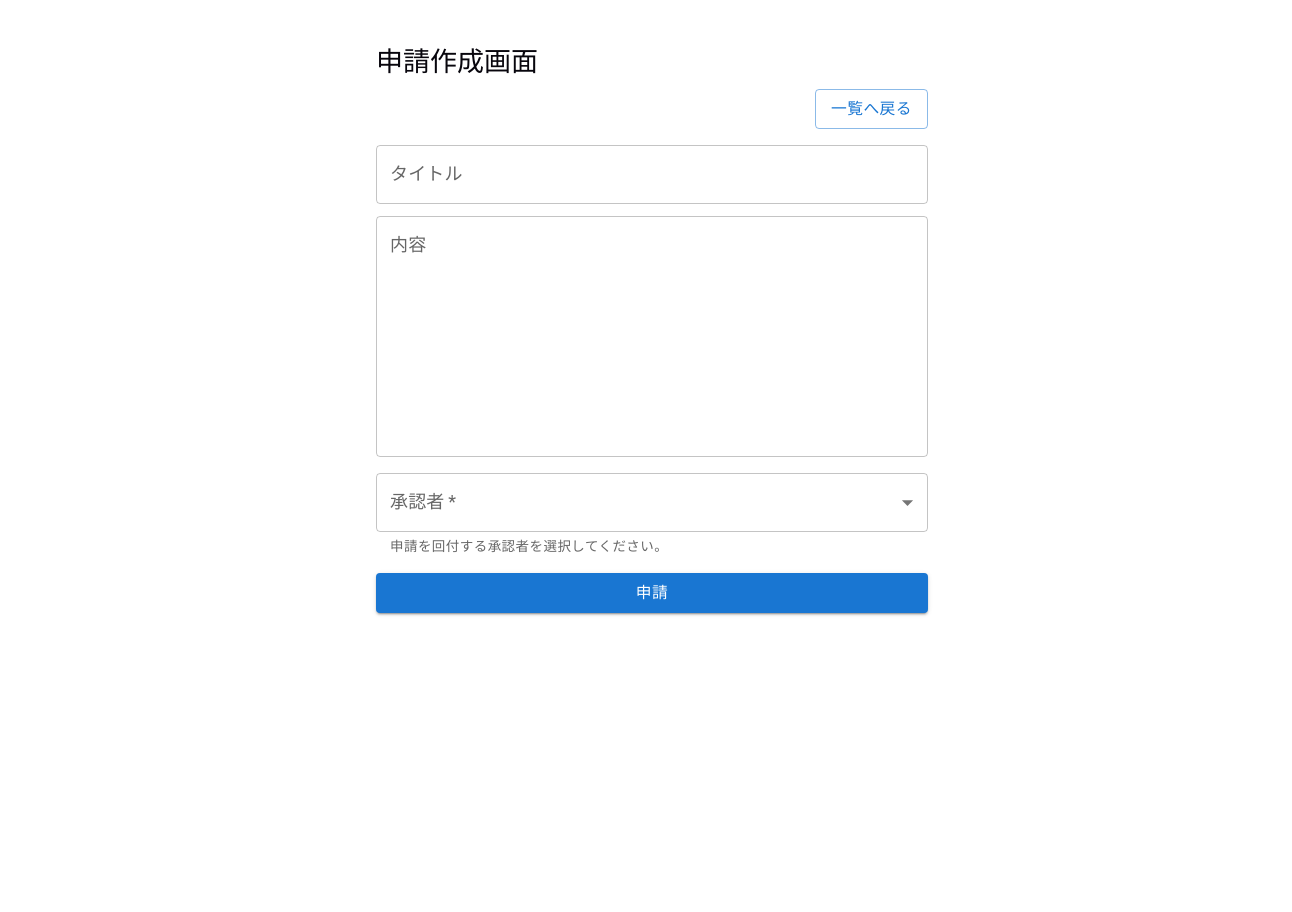
Test: ApplicationCreatePage › 申請の作成に成功すること
The width and height of the screenshot is (1292, 912).
Type "　新規申請タイトル　" into the field labelled "タイトル" at [652, 174], box left=376, top=145, right=928, bottom=204
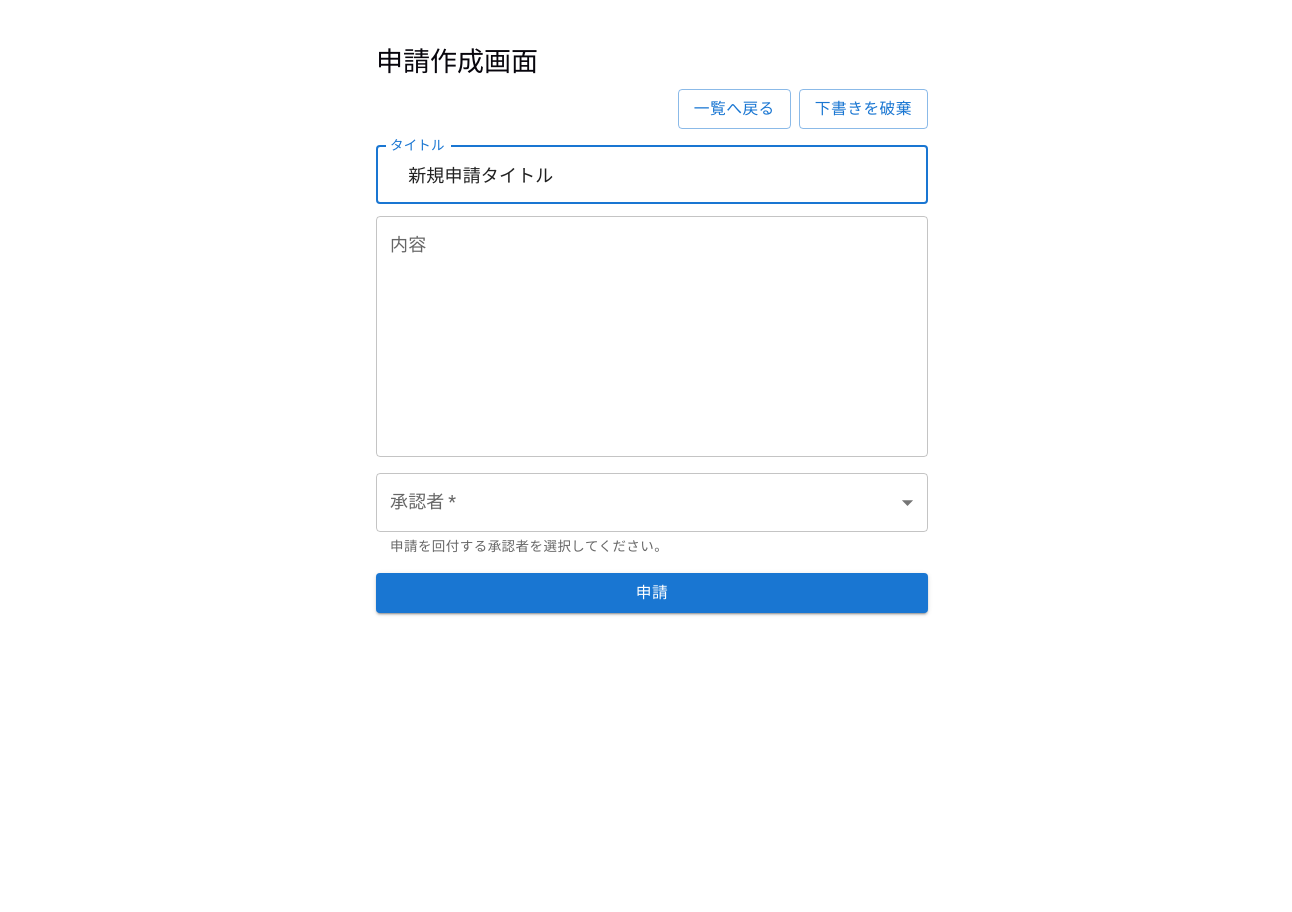
Type "　新規申請内容　" into the text box labelled "内容" at [652, 336], box left=390, top=232, right=914, bottom=440
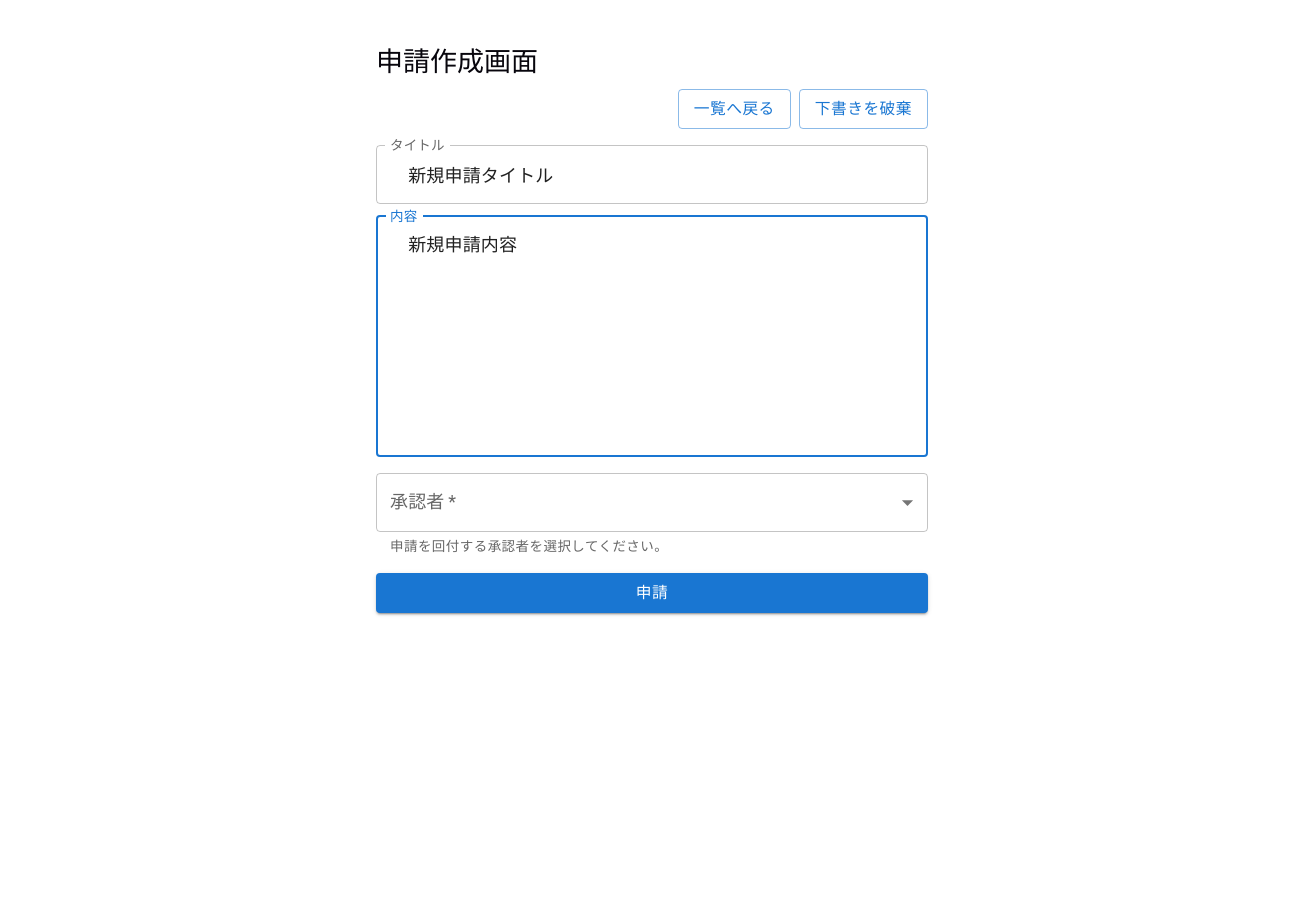
Click the dropdown named "承認者 *" at [652, 502], box left=376, top=473, right=928, bottom=532
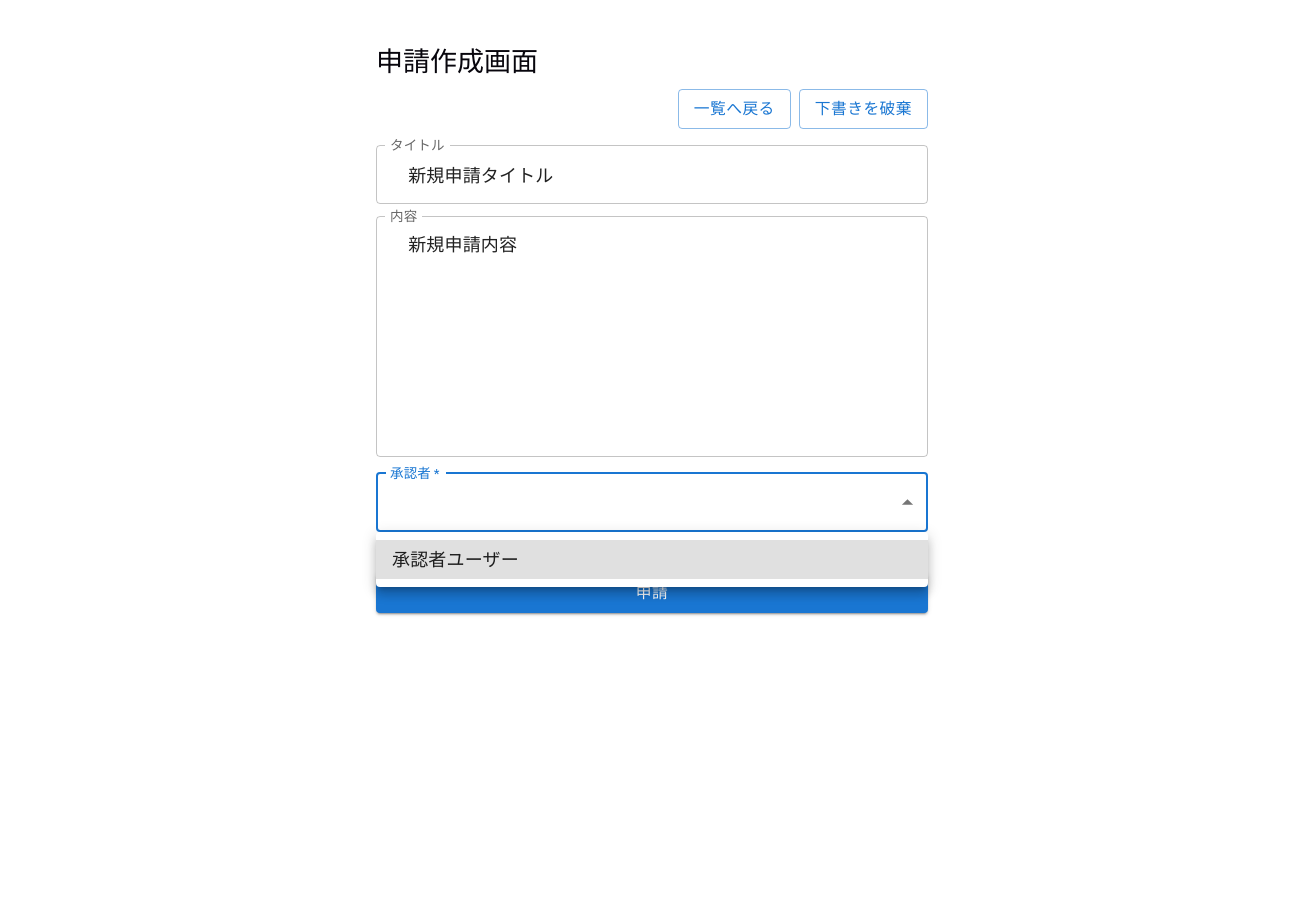
Click the option "承認者ユーザー" at [455, 560], box left=376, top=540, right=928, bottom=579
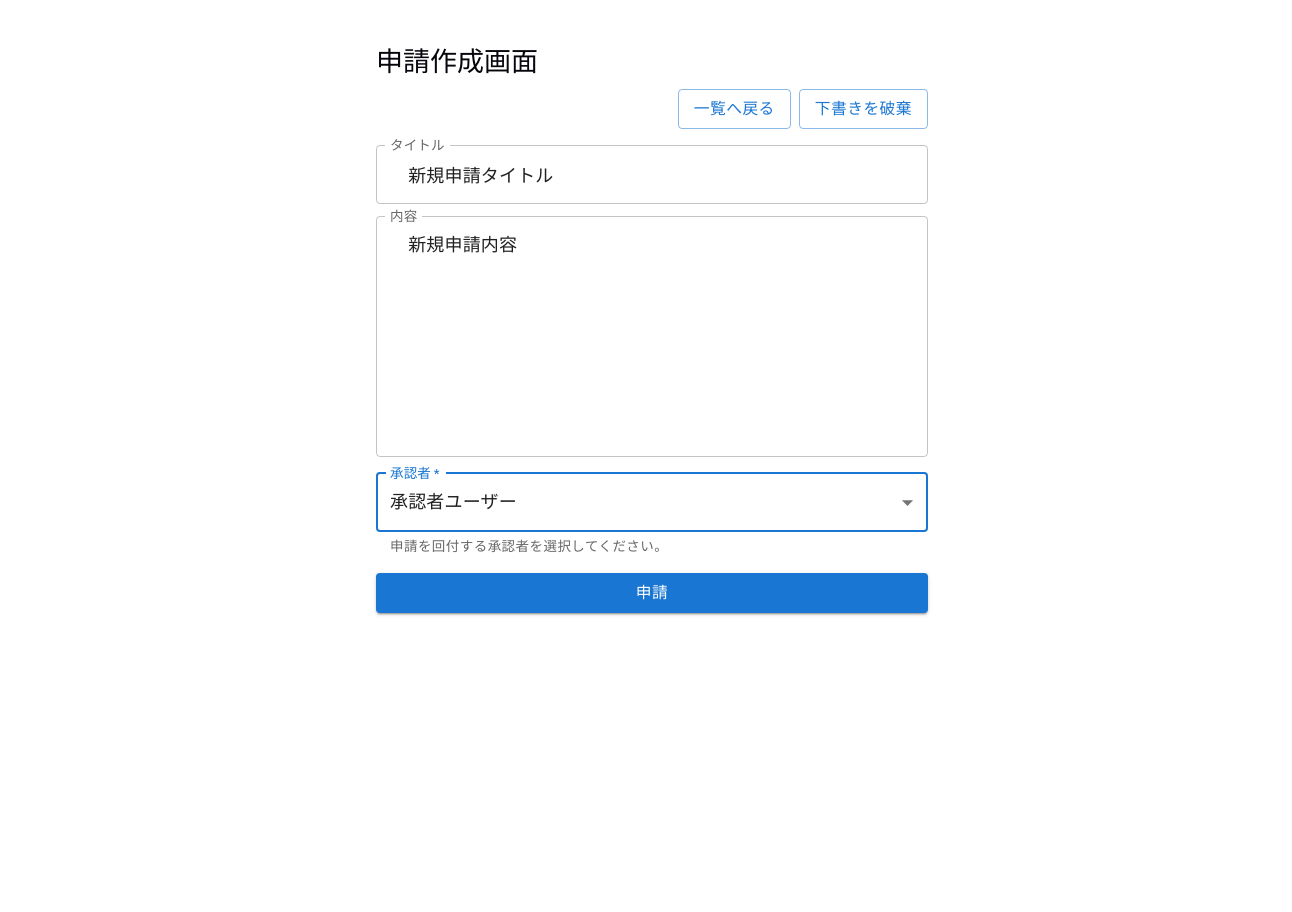
Click the button "申請" at [652, 593], box left=376, top=573, right=928, bottom=613
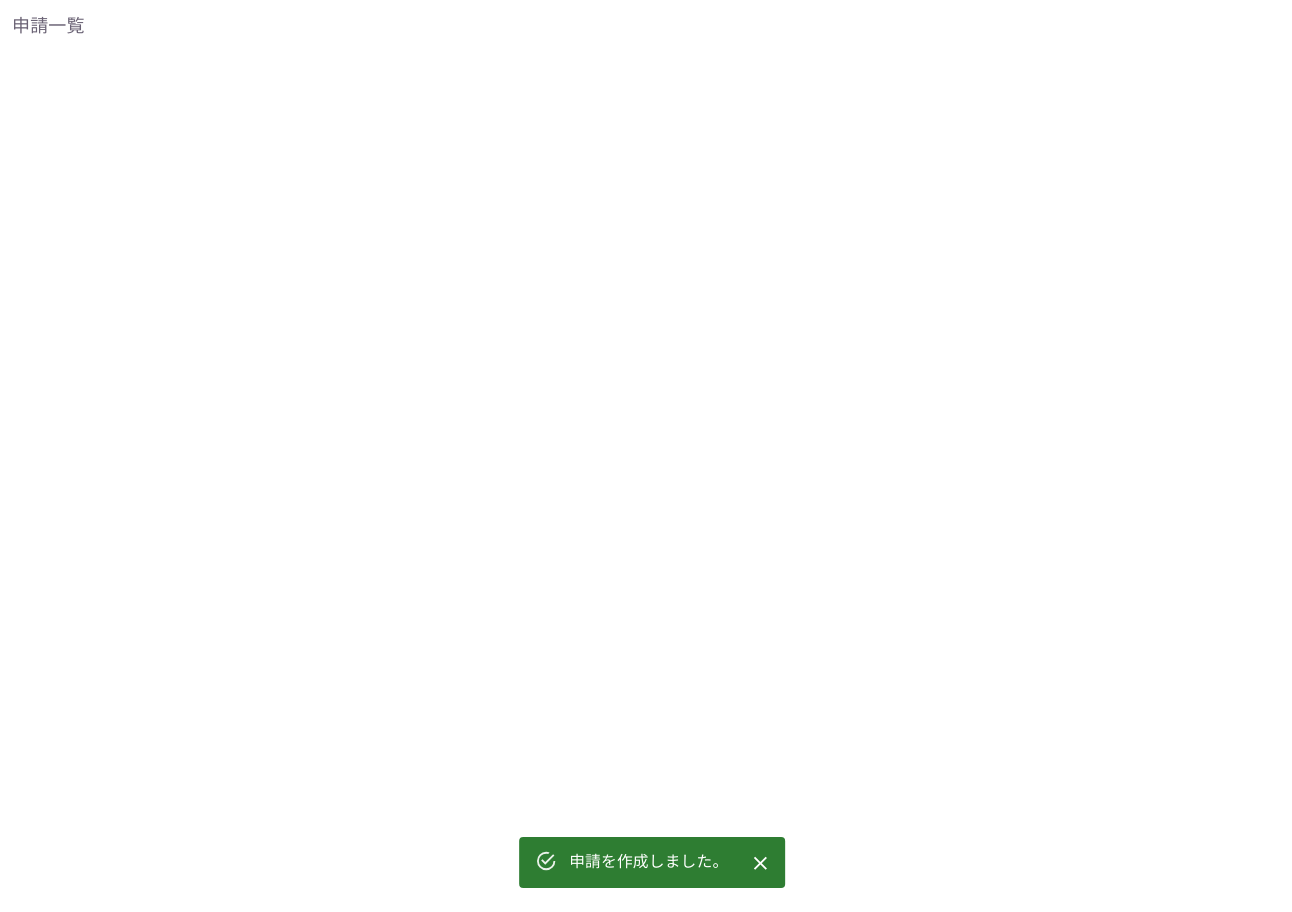
Expected: the text "申請一覧" is shown, left=12, top=13, right=85, bottom=37
Expected: the text "申請を作成しました。" is shown, left=569, top=852, right=728, bottom=872
